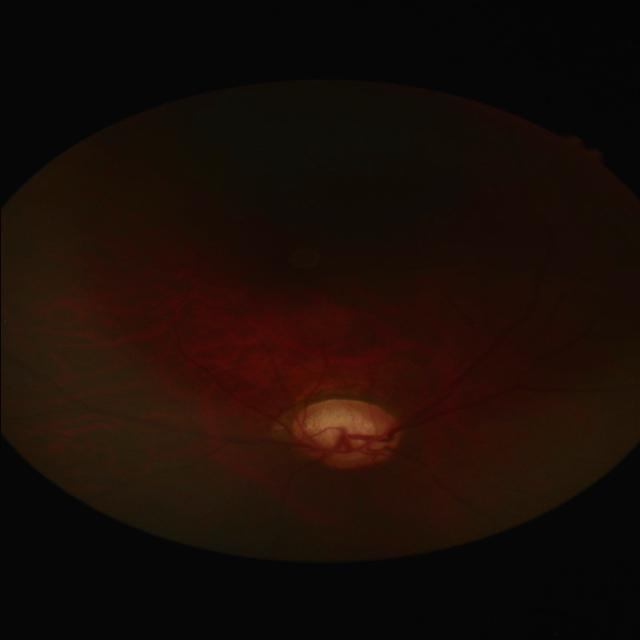cup: (300, 412, 386, 454)
disk: (288, 400, 402, 472)
